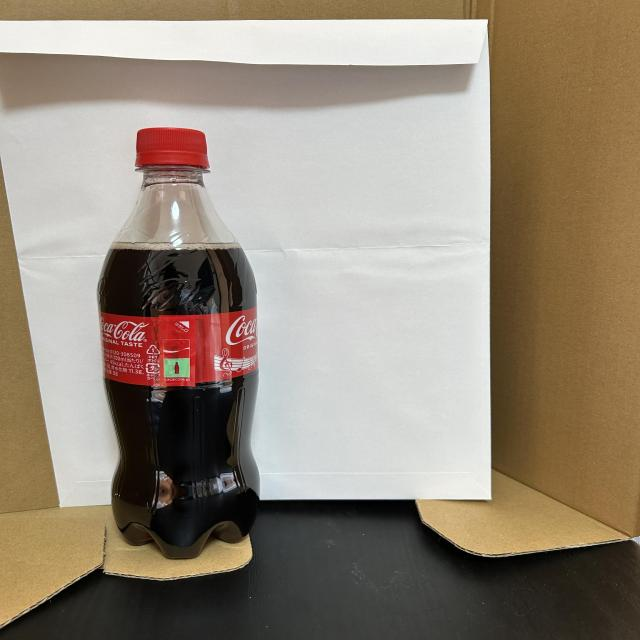high: (97, 127, 259, 558)
